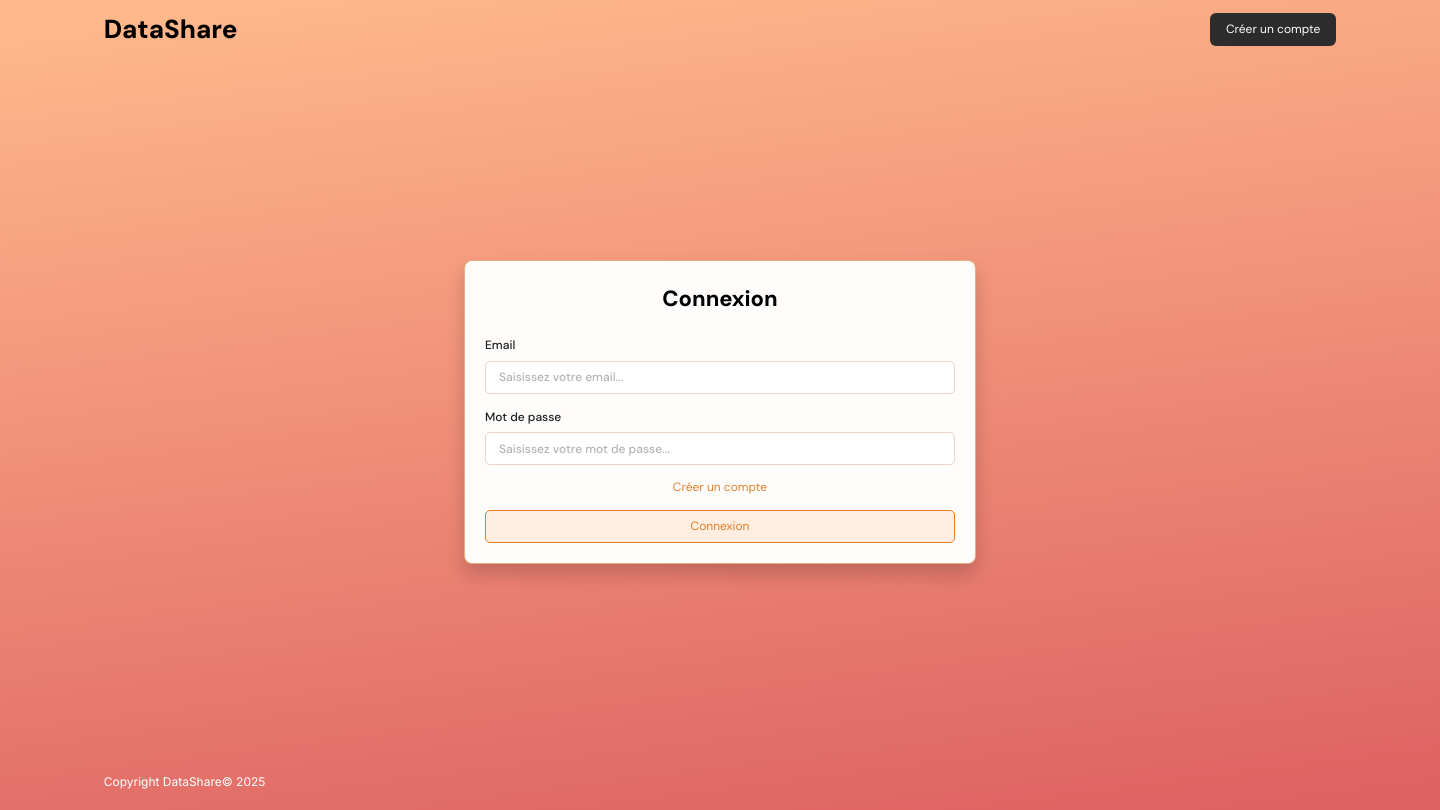
Test: Authentication › displays login errors returned by the API
This screenshot has width=1440, height=810.
Type "john.doe@example.com" into the field labelled "Email". click: (720, 377)
box: x1=485 y1=360 x2=955 y2=394
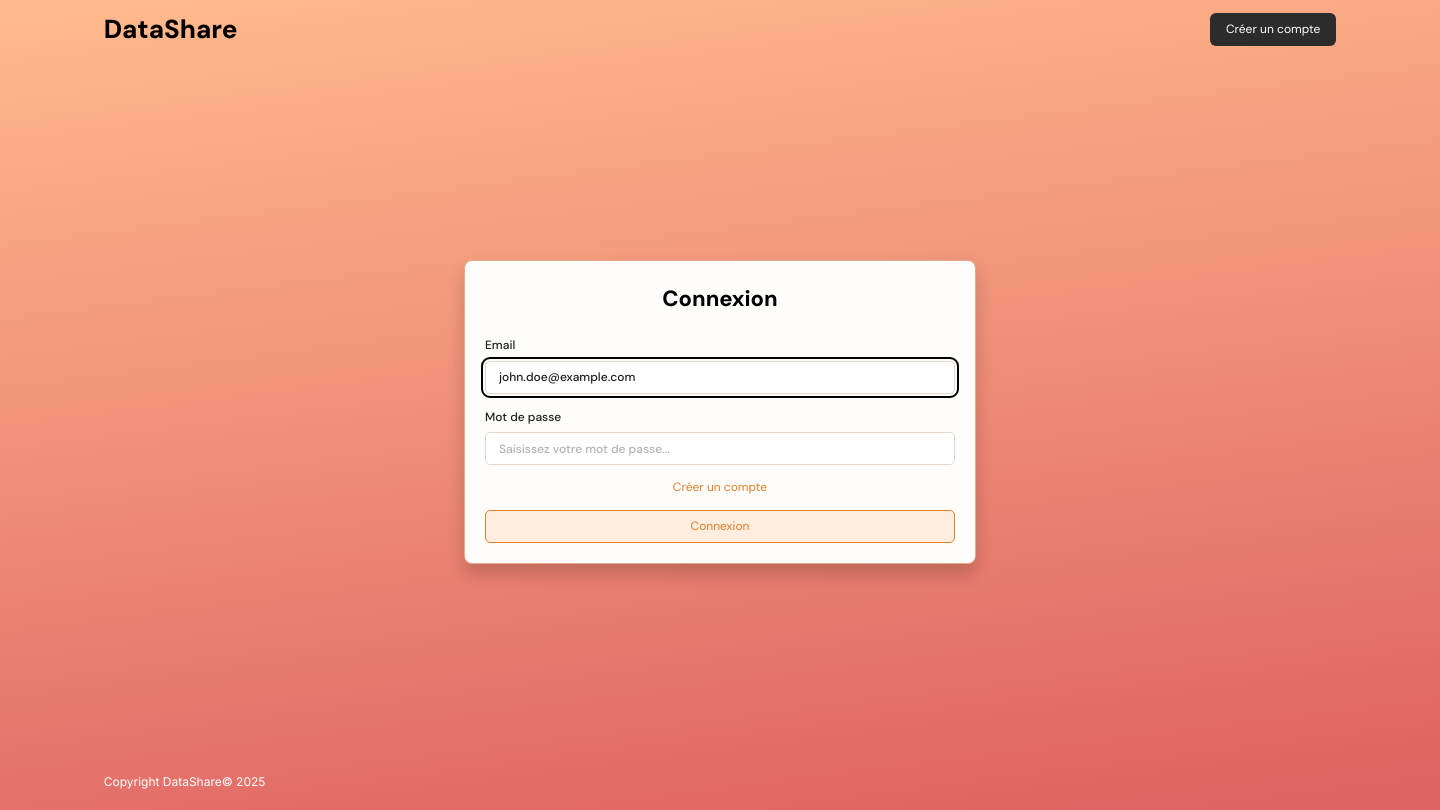
Type "wrong-password" into the password field labelled "Mot de passe". click: (720, 449)
box: x1=485 y1=432 x2=955 y2=465
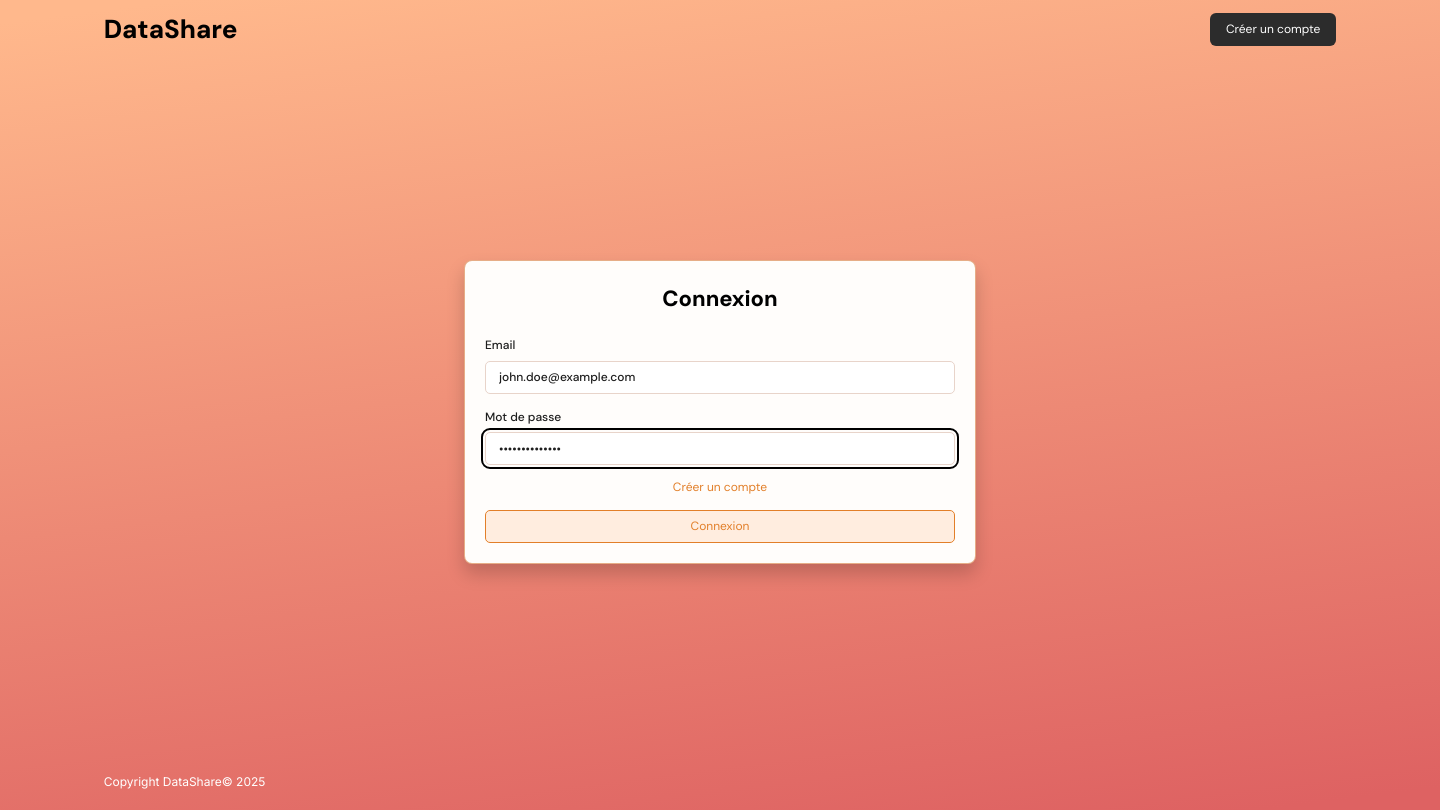
Click the button "Connexion". click: (720, 526)
box: x1=485 y1=510 x2=955 y2=543
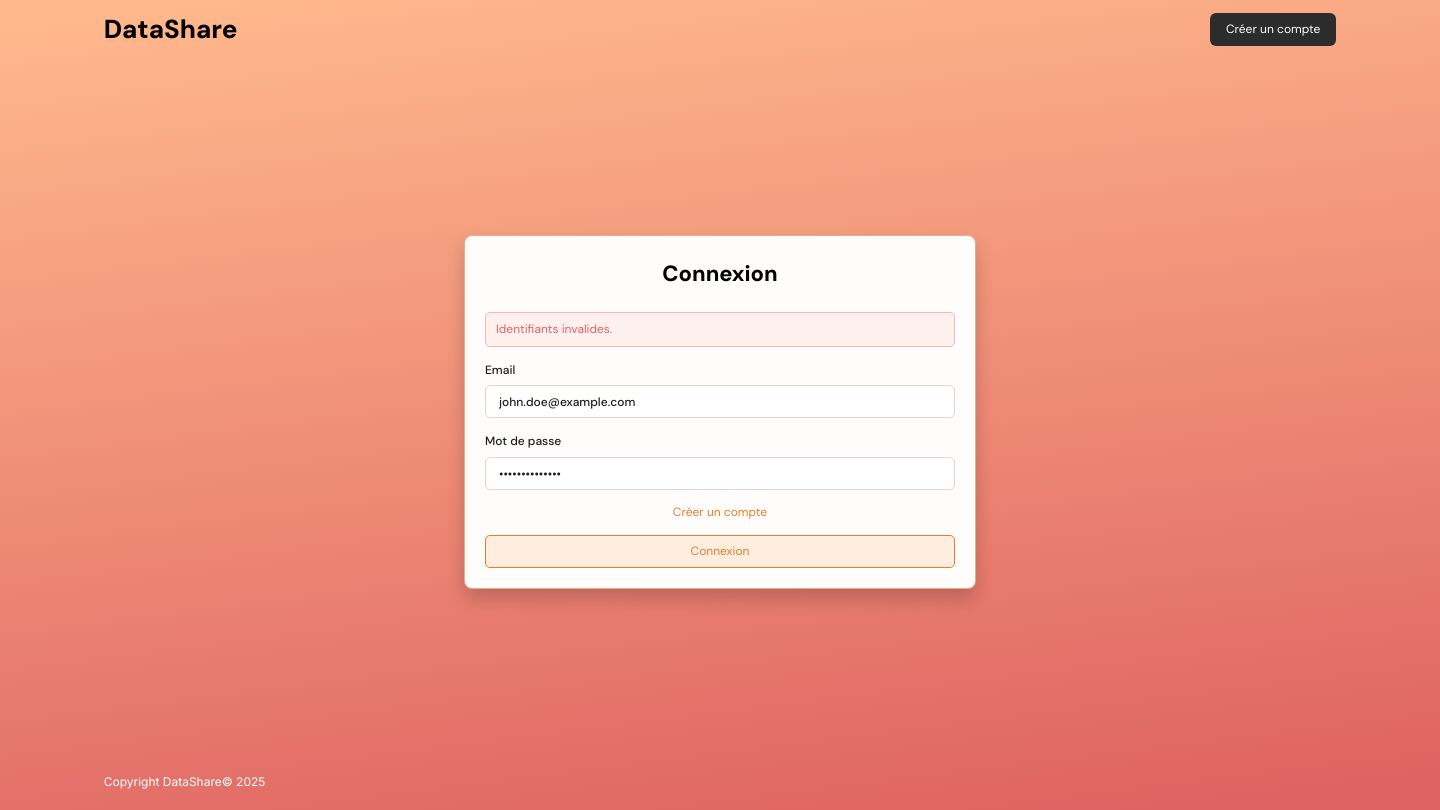
Expected: the text "Identifiants invalides." is shown, x1=485 y1=312 x2=955 y2=347
